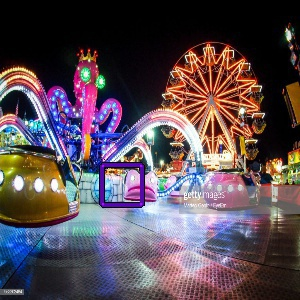square: (97, 161, 146, 209)
